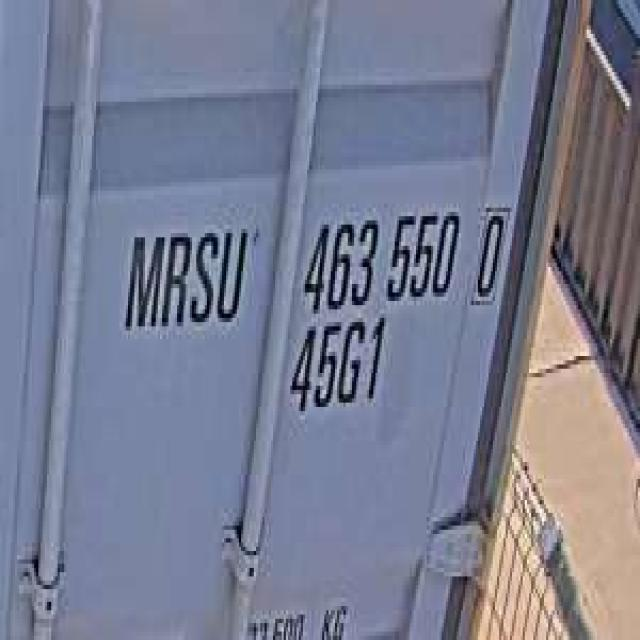dv: (469, 195, 510, 309)
owner: (117, 208, 252, 339)
serial: (298, 195, 461, 318)
size: (284, 310, 390, 420)
